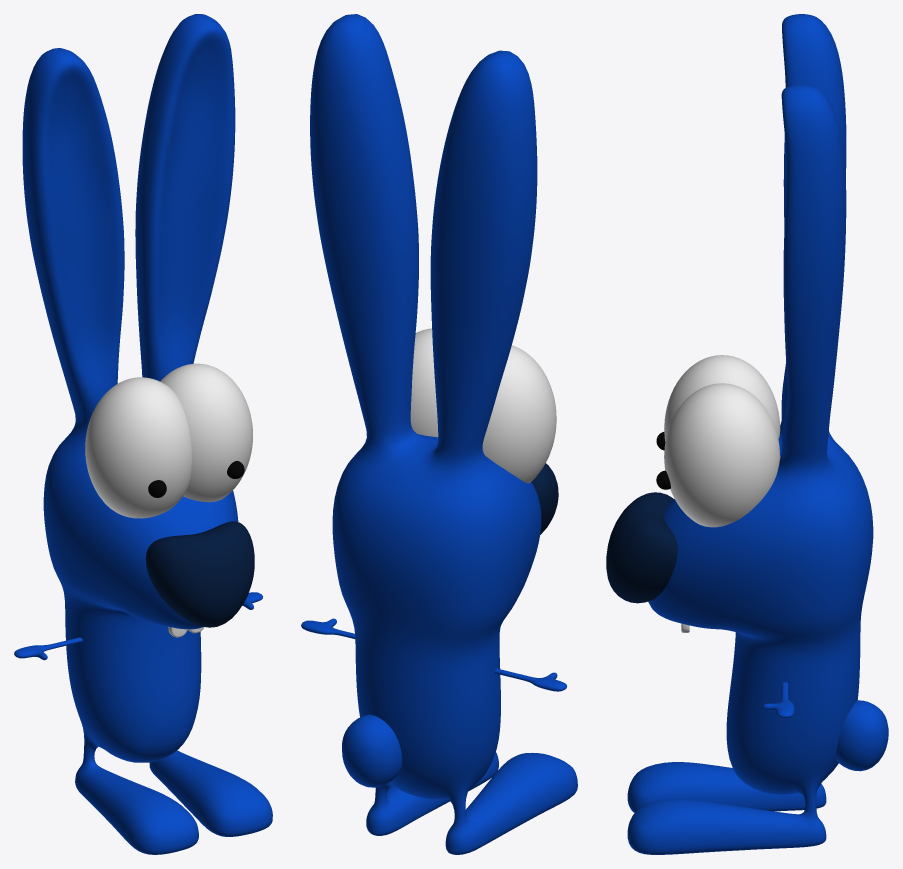
The model's file is monster-hare.glb.
3 views of the same model, side by side, from view 1: azimuth 30°, elevation 25°; view 2: azimuth 150°, elevation 25°; view 3: azimuth 270°, elevation 25° (orthographic). The views are drawn at different scales.
Visible parts, largest first — view 1: Retopo_Body.001, Eyes-1.001, Nose.001, Hand.001, Eyes-2.001; view 2: Retopo_Body.001, Eyes-1.001, Tail.001, Hand.001, Nose.001; view 3: Retopo_Body.001, Eyes-1.001, Nose.001, Tail.001.
Boxes of the visible parts, x1,y1,x2,y2 form: Retopo_Body.001: (22, 14, 272, 854); Eyes-1.001: (85, 363, 252, 518); Nose.001: (145, 521, 254, 627); Hand.001: (14, 592, 262, 660); Eyes-2.001: (148, 461, 244, 497); Retopo_Body.001: (310, 14, 577, 854); Eyes-1.001: (410, 328, 556, 483); Tail.001: (342, 714, 402, 787); Hand.001: (301, 618, 566, 691); Nose.001: (531, 463, 558, 534); Retopo_Body.001: (627, 14, 873, 854); Eyes-1.001: (664, 355, 780, 527); Nose.001: (606, 492, 677, 603); Tail.001: (836, 700, 888, 771).
Bounding box in the file's own units: 0.4066 × 1.18 × 0.3913.
